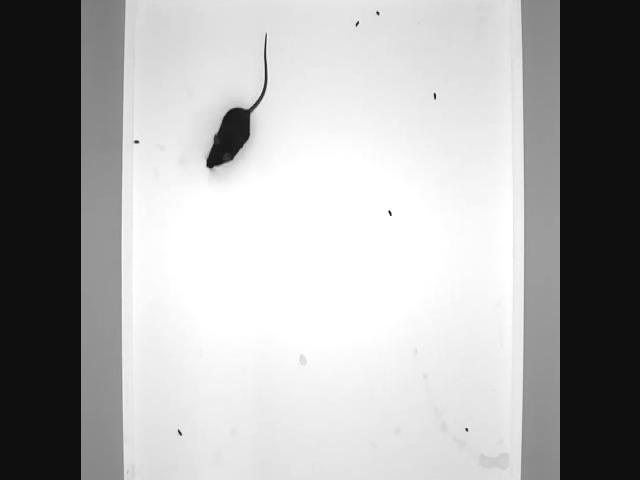Tikus: (198, 28, 272, 184)
